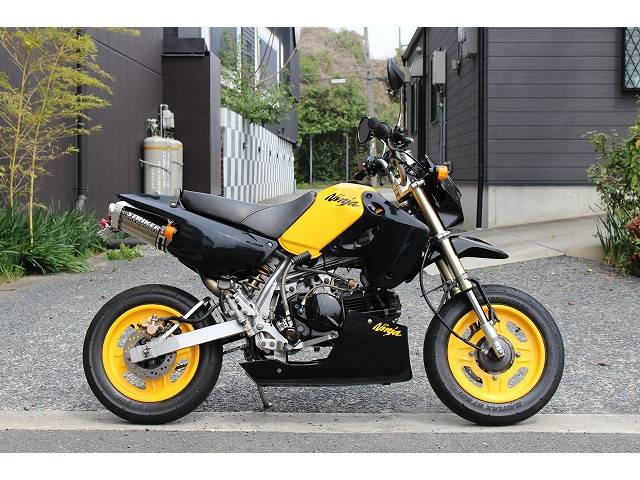motorcycle: (83, 156, 566, 428)
